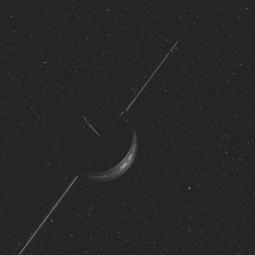double_start: (57, 99, 146, 194)
